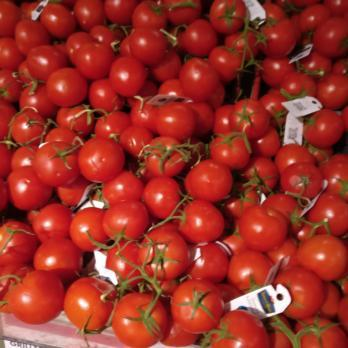Tomato: (0, 2, 348, 322)
